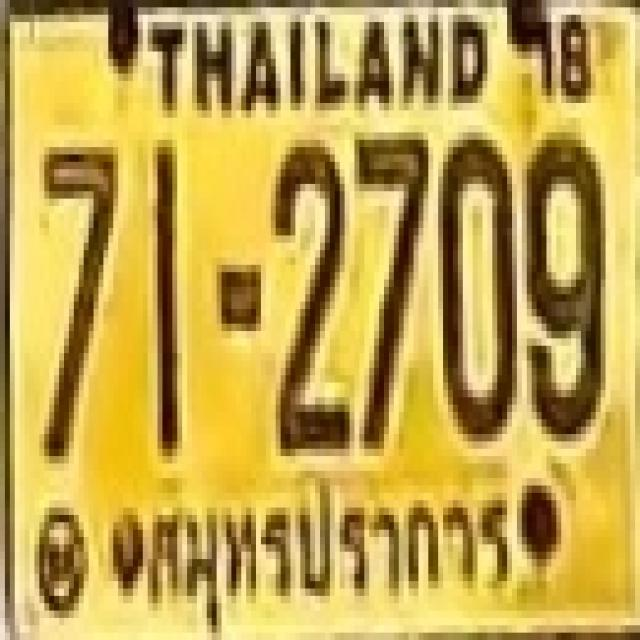0: (436, 132, 510, 434)
1: (150, 143, 175, 438)
2: (270, 140, 344, 441), (273, 140, 342, 412)
7: (352, 132, 426, 442), (40, 144, 114, 445), (40, 140, 114, 404), (40, 140, 114, 353)
9: (522, 132, 600, 434)
SPK: (135, 468, 522, 615)
